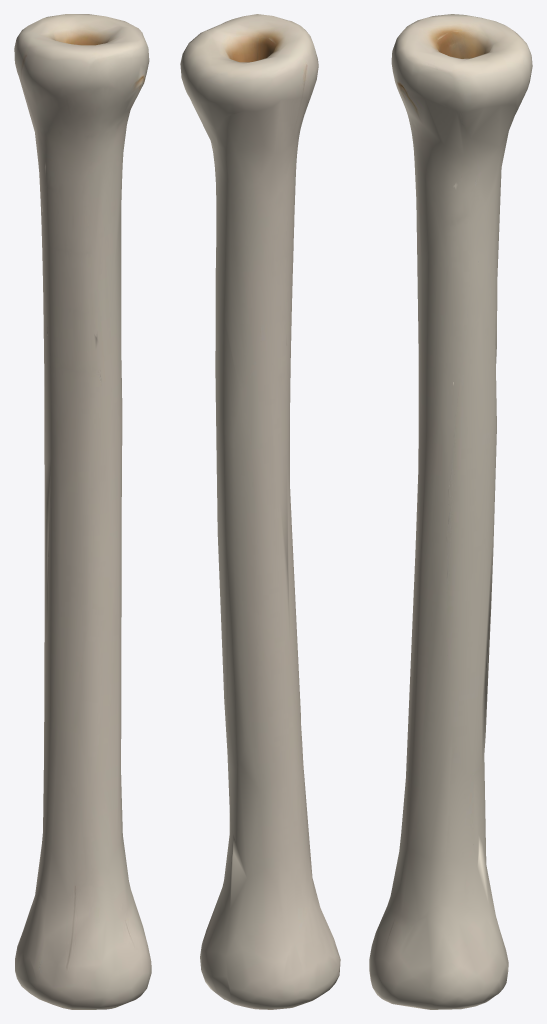
File: phalanx-middle.glb
The picture shows the model from 3 angles, left to right: view 1: azimuth 30°, elevation 25°; view 2: azimuth 150°, elevation 25°; view 3: azimuth 270°, elevation 25°; orthographic projection.
Parts seen in each view (by area): view 1: phalanx-middle; view 2: phalanx-middle; view 3: phalanx-middle.
Part boxes in pixels (<box>): phalanx-middle: <box>14,14,151,1009</box>; phalanx-middle: <box>180,14,340,1009</box>; phalanx-middle: <box>369,14,532,1009</box>.
Size of the model in its own units: 0.1437 by 1 by 0.1542.
Materials: 1 (1 with a texture image).
